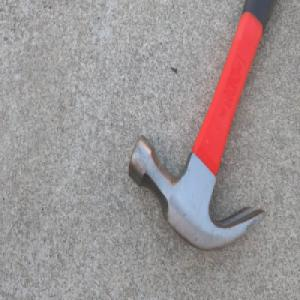Hammer: (127, 0, 279, 253)
